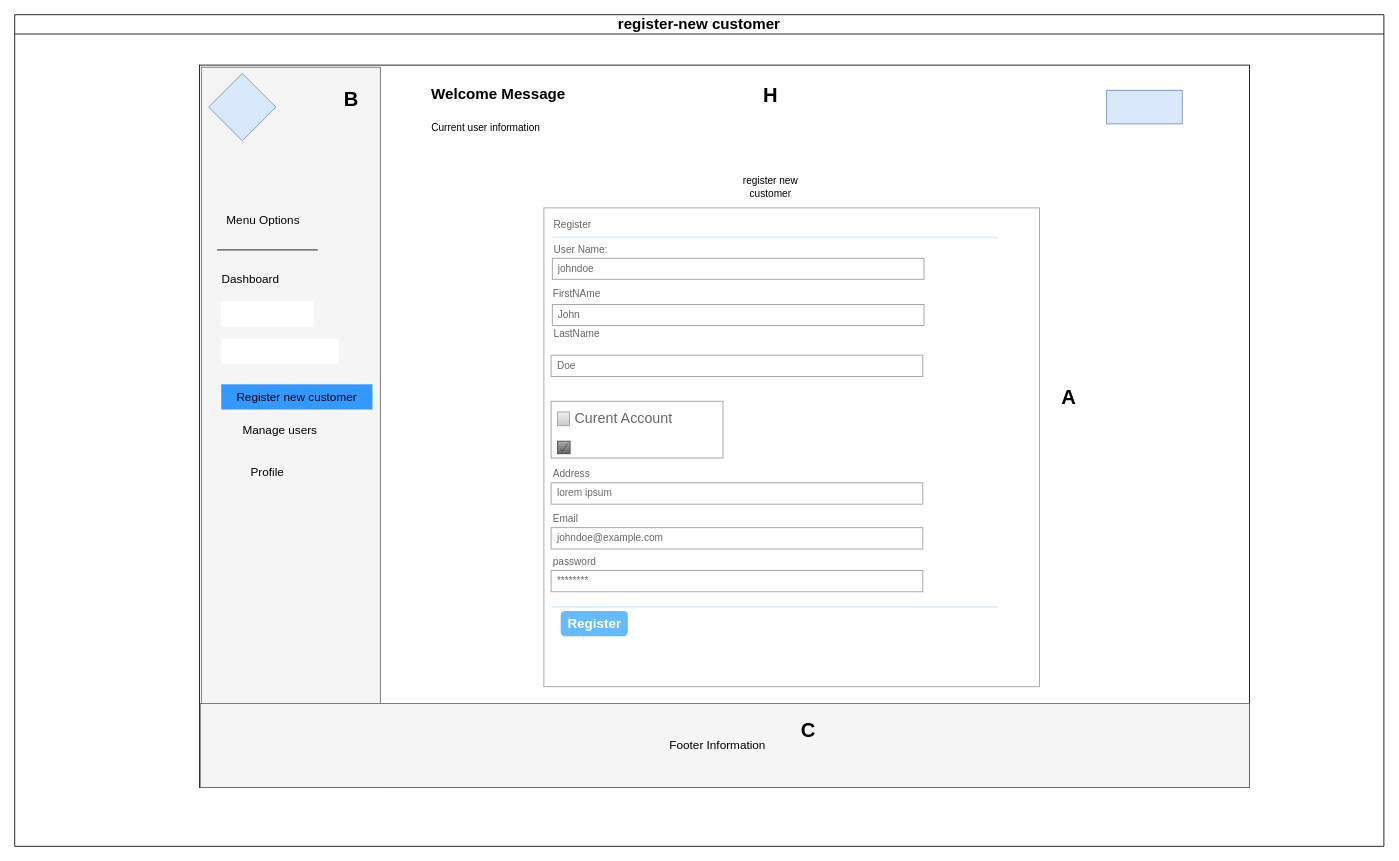
This 1399x861 diagram has some shape labels left out. The shapes that lost their labels are listed below. From the top down, each one's box as (x1, y1, x2, y2) in pixels, then its label:
(208, 73, 276, 141): LOGO
(1106, 89, 1182, 124): Logout
(220, 301, 314, 327): Transactions
(221, 339, 338, 364): Manage Accounts
(557, 440, 570, 454): Savings Account
